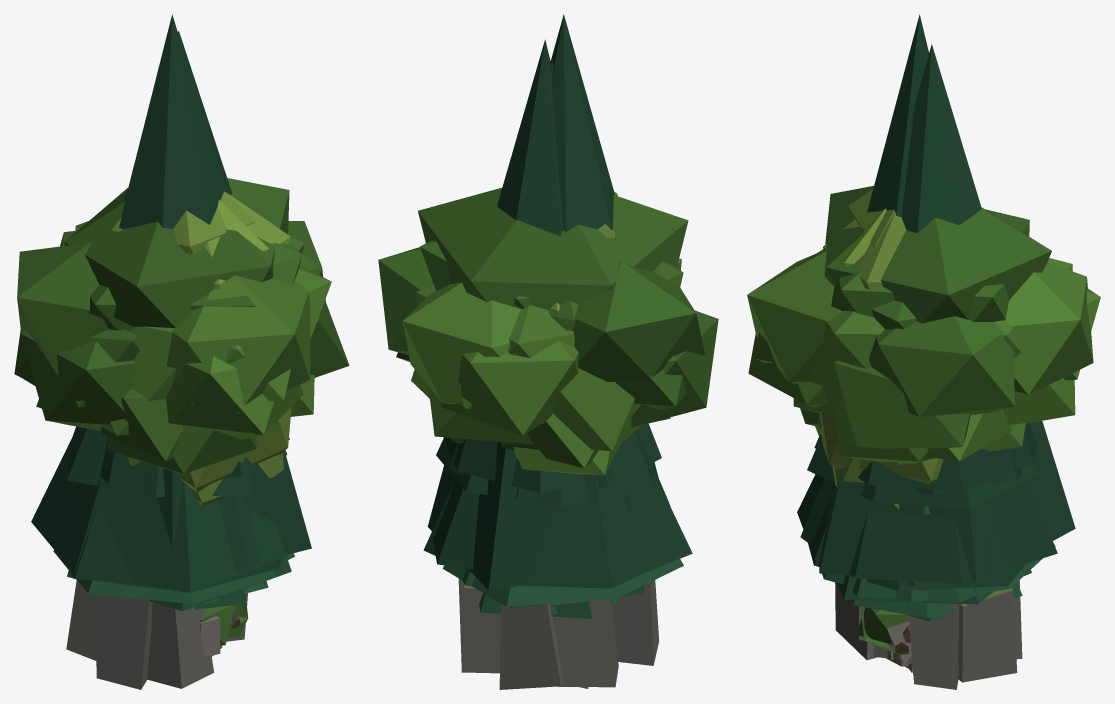
File: nature.glb
3 renders of one model, left to right at view 1: azimuth 30°, elevation 25°; view 2: azimuth 150°, elevation 25°; view 3: azimuth 270°, elevation 25°, orthographic.
Visible parts, largest first — view 1: oak_s3_v2__leaf, pine_s3_v1__leaf, oak_s3_v0__leaf, pine_s3_v0__leaf, oak_s3_v1__leaf, outcrop_v2__main, pine_s3_v2__leaf, oak_s3__lo_leaf, pine_s3__lo_leaf, oak_s2_v2__leaf, oak_s2_v1__leaf, birch_s3_v0__leaf (+8 smaller); view 2: oak_s3_v2__leaf, pine_s3_v1__leaf, pine_s3_v0__leaf, oak_s3_v0__leaf, oak_s3__lo_leaf, pine_s3__lo_leaf, outcrop_v0__main, outcrop_v1__main, pine_s3_v2__leaf, pine_s2_v2__leaf, outcrop_v2__main, oak_s3_v1__leaf (+3 smaller); view 3: oak_s3_v2__leaf, pine_s3_v0__leaf, oak_s3_v1__leaf, pine_s3_v1__leaf, oak_s3_v0__leaf, pine_s3__lo_leaf, oak_s3__lo_leaf, outcrop_v0__main, pine_s3_v2__leaf, outcrop_v2__main, birch_s3_v0__leaf, oak_s2_v2__leaf (+9 smaller).
Boxes of the visible parts, x1=… form: oak_s3_v2__leaf: x1=17, y1=178, x2=325, y2=404; pine_s3_v1__leaf: x1=31, y1=31, x2=287, y2=591; oak_s3_v0__leaf: x1=20, y1=238, x2=349, y2=439; pine_s3_v0__leaf: x1=119, y1=14, x2=289, y2=571; oak_s3_v1__leaf: x1=14, y1=242, x2=310, y2=413; outcrop_v2__main: x1=94, y1=593, x2=247, y2=689; pine_s3_v2__leaf: x1=67, y1=428, x2=287, y2=592; oak_s3__lo_leaf: x1=24, y1=230, x2=331, y2=435; pine_s3__lo_leaf: x1=71, y1=451, x2=311, y2=554; oak_s2_v2__leaf: x1=36, y1=375, x2=314, y2=474; oak_s2_v1__leaf: x1=101, y1=389, x2=182, y2=461; birch_s3_v0__leaf: x1=178, y1=200, x2=291, y2=492; oak_s3_v2__leaf: x1=378, y1=187, x2=704, y2=403; pine_s3_v1__leaf: x1=432, y1=39, x2=688, y2=587; pine_s3_v0__leaf: x1=431, y1=14, x2=614, y2=569; oak_s3_v0__leaf: x1=396, y1=258, x2=718, y2=435; oak_s3__lo_leaf: x1=416, y1=283, x2=641, y2=451; pine_s3__lo_leaf: x1=427, y1=59, x2=658, y2=590; outcrop_v0__main: x1=458, y1=578, x2=562, y2=689; outcrop_v1__main: x1=553, y1=600, x2=618, y2=688; pine_s3_v2__leaf: x1=423, y1=429, x2=692, y2=588; pine_s2_v2__leaf: x1=442, y1=559, x2=683, y2=606; outcrop_v2__main: x1=611, y1=580, x2=658, y2=665; oak_s3_v1__leaf: x1=420, y1=240, x2=687, y2=410; oak_s3_v2__leaf: x1=754, y1=186, x2=1093, y2=417; pine_s3_v0__leaf: x1=800, y1=14, x2=1057, y2=583; oak_s3_v1__leaf: x1=747, y1=250, x2=1008, y2=384; pine_s3_v1__leaf: x1=797, y1=44, x2=1025, y2=586; oak_s3_v0__leaf: x1=748, y1=249, x2=1100, y2=448; pine_s3__lo_leaf: x1=819, y1=421, x2=1075, y2=582; oak_s3__lo_leaf: x1=793, y1=258, x2=1075, y2=424; outcrop_v0__main: x1=886, y1=580, x2=1022, y2=682; pine_s3_v2__leaf: x1=807, y1=436, x2=1038, y2=591; outcrop_v2__main: x1=835, y1=582, x2=959, y2=689; birch_s3_v0__leaf: x1=815, y1=208, x2=943, y2=483; oak_s2_v2__leaf: x1=800, y1=401, x2=934, y2=463.
Size of the model in its own units: 1.08 by 2.2 by 1.1.
